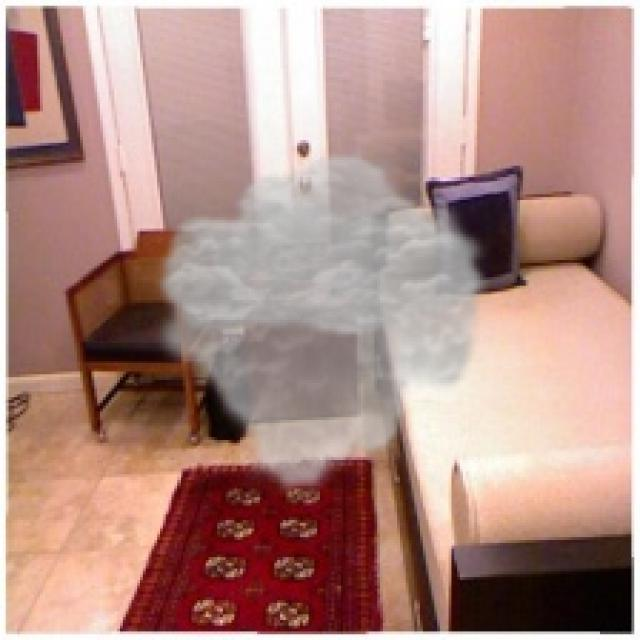Smoke: (148, 148, 494, 498)
